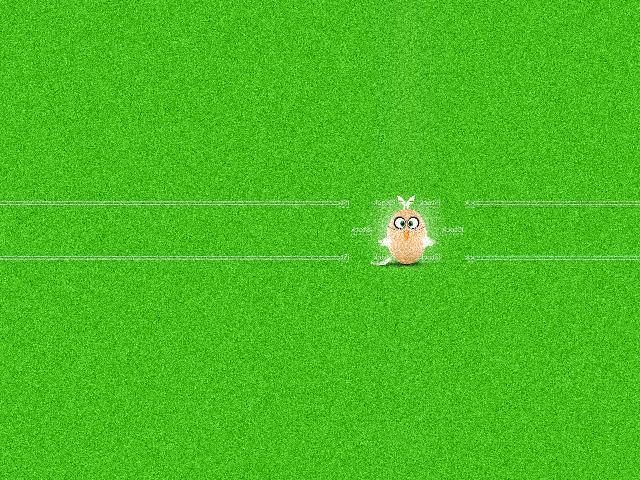egg: (386, 209, 425, 265)
